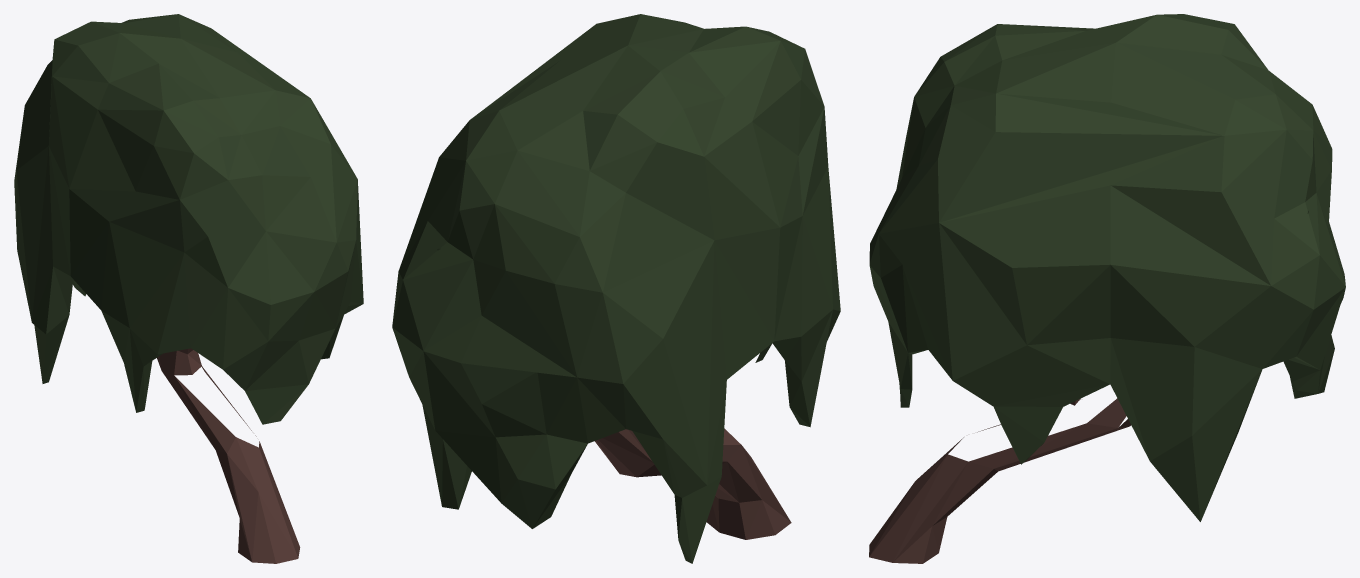
The model's file is Willow_3.glb.
3 views of the same model, side by side, from view 1: azimuth 30°, elevation 25°; view 2: azimuth 150°, elevation 25°; view 3: azimuth 270°, elevation 25° (orthographic). The views are drawn at different scales.
Visible parts, largest first — view 1: Willow_3_Cube.012; view 2: Willow_3_Cube.012; view 3: Willow_3_Cube.012.
Part boxes in pixels (box(x1,y1,x2,y2)): Willow_3_Cube.012: box(14, 14, 363, 563); Willow_3_Cube.012: box(392, 14, 840, 563); Willow_3_Cube.012: box(869, 14, 1345, 563).
Size of the model in its own units: 1.31 by 2.35 by 1.98.
